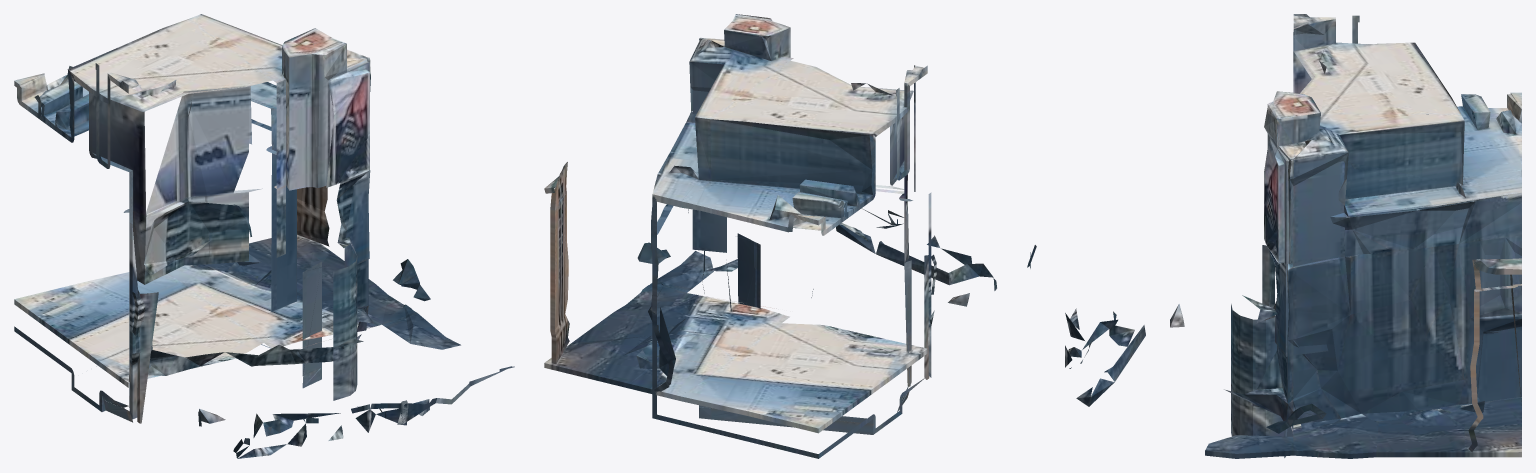
The model's file is chunk_0_-2.glb.
3 views of the same model, side by side, from view 1: azimuth 30°, elevation 25°; view 2: azimuth 150°, elevation 25°; view 3: azimuth 270°, elevation 25° (orthographic). The views are drawn at different scales.
Parts seen in each view (by area): view 1: hero-chunk; view 2: hero-chunk; view 3: hero-chunk.
Boxes of the visible parts, x1=… form: hero-chunk: x1=14, y1=14, x2=514, y2=458; hero-chunk: x1=544, y1=14, x2=1036, y2=458; hero-chunk: x1=1065, y1=14, x2=1521, y2=458.
Size of the model in its own units: 56.35 by 63.64 by 76.32.
Materials: 2 (2 with a texture image).
